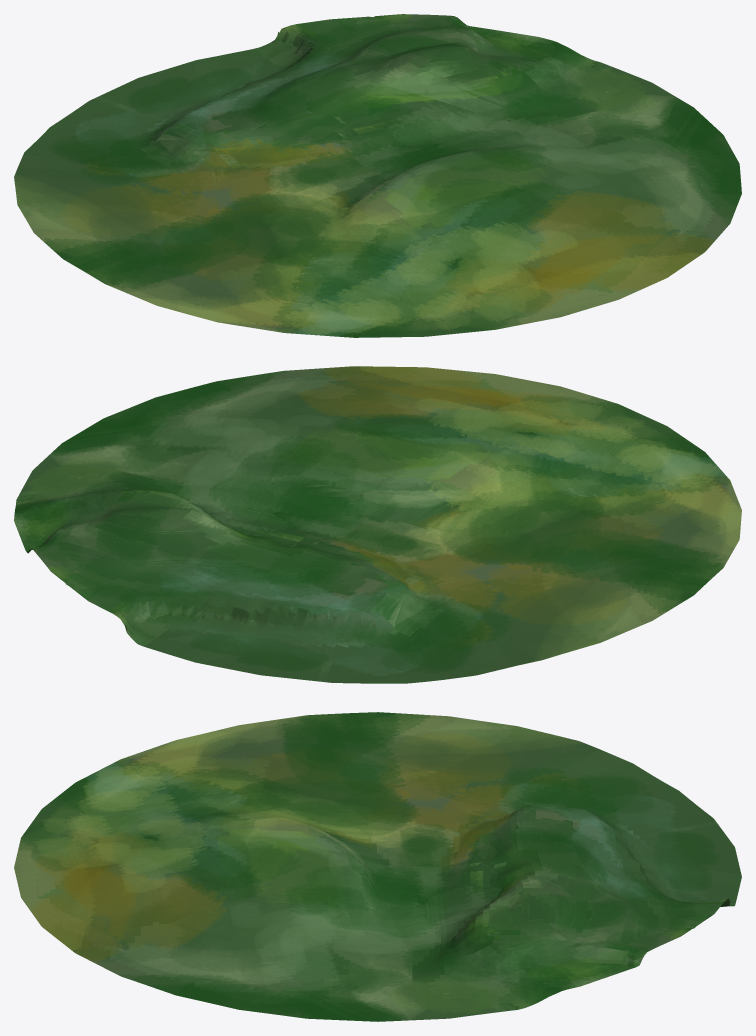
Rendered from LO_terrain.glb.
3 views of the same model, one above another, from view 1: azimuth 30°, elevation 25°; view 2: azimuth 150°, elevation 25°; view 3: azimuth 270°, elevation 25° (orthographic).
Visible parts, largest first — view 1: terrain_sketch; view 2: terrain_sketch; view 3: terrain_sketch.
Part boxes in pixels (x1,y1,x2,y2): terrain_sketch: (14, 14, 741, 337); terrain_sketch: (14, 366, 741, 683); terrain_sketch: (14, 712, 741, 1021).
Size of the model in its own units: 100 by 7.02 by 100.
Materials: 1 (1 with a texture image).
